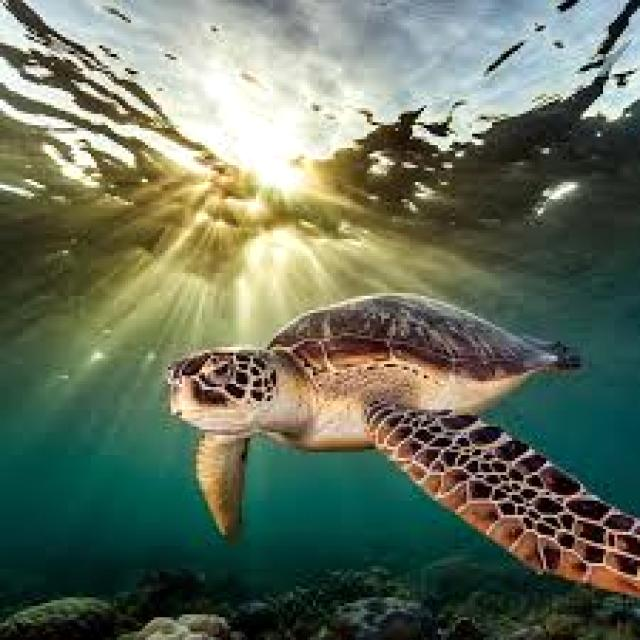Sea turtle: (149, 284, 640, 622)
